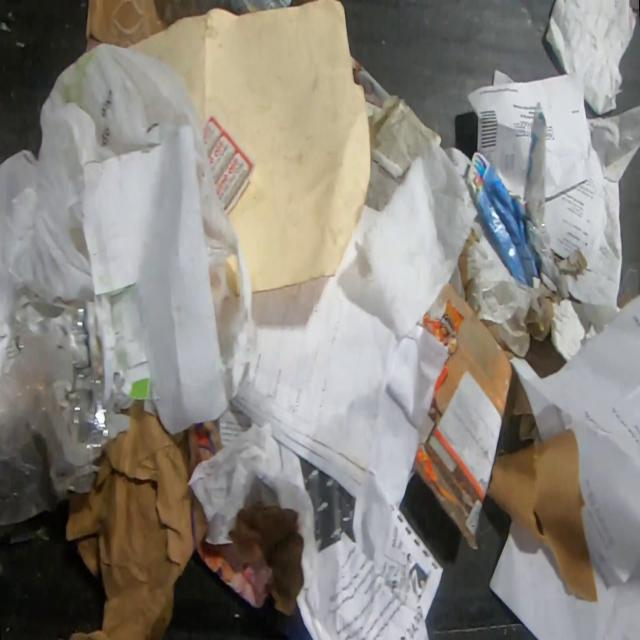cardboard: (464, 108, 588, 342), (412, 280, 514, 553), (82, 0, 238, 55), (197, 541, 274, 611)
soft_plastic: (0, 44, 256, 529)
